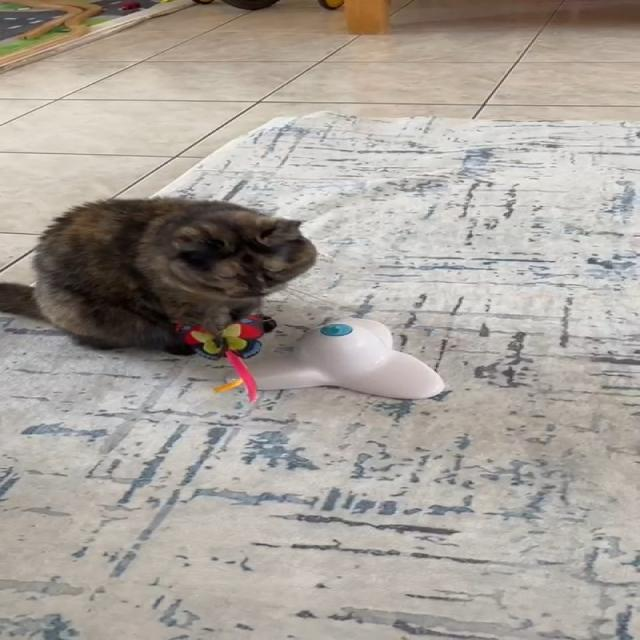authorized: (0, 196, 317, 355)
